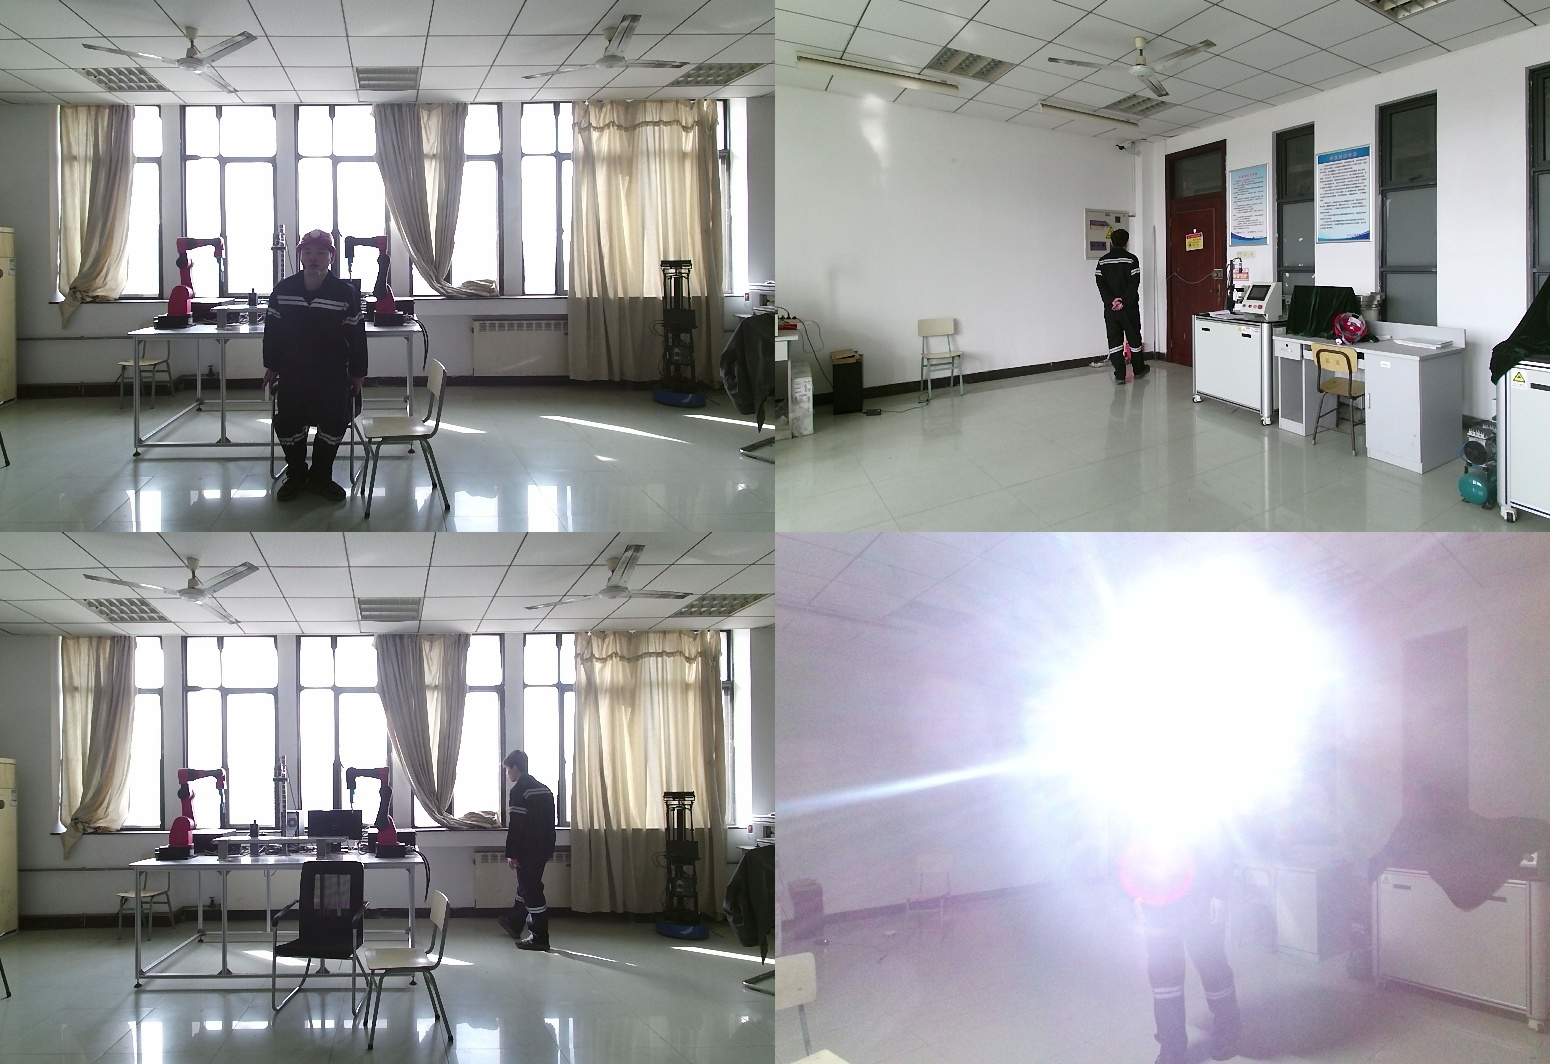person: (1132, 710, 1257, 1064), (262, 230, 376, 500), (497, 748, 563, 955), (1091, 228, 1150, 384)
